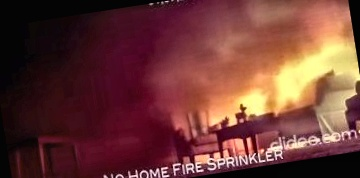fire: (172, 14, 360, 138)
